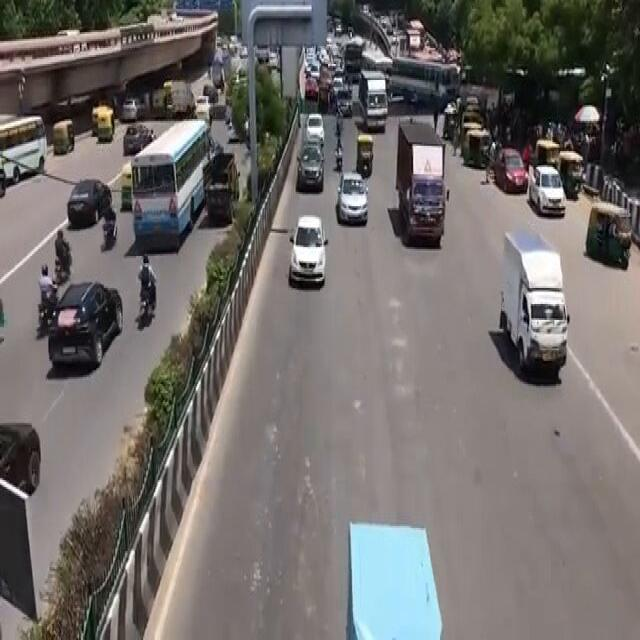three_wheeler: (574, 185, 632, 288)
